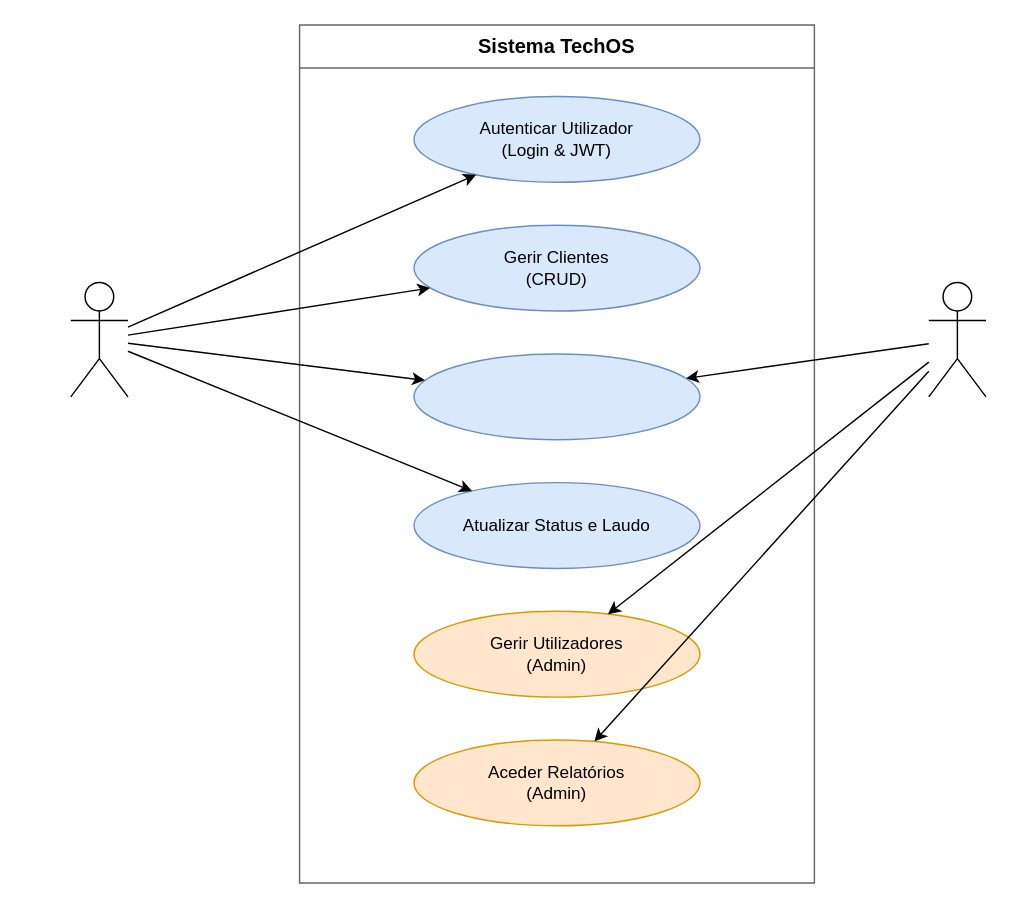
The diagram is 1034 pixels wide and 908 high, and some of its shapes have lost their labels. Each missing label, with the box of its shape:
Abrir Ordem de Serviço: (413, 352, 700, 440)
Administrador: (927, 281, 986, 397)
Técnico de Suporte: (69, 281, 128, 397)
